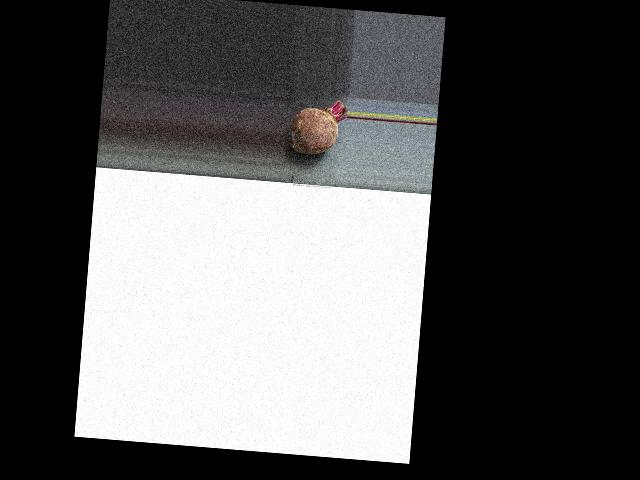beet: (288, 97, 348, 157)
